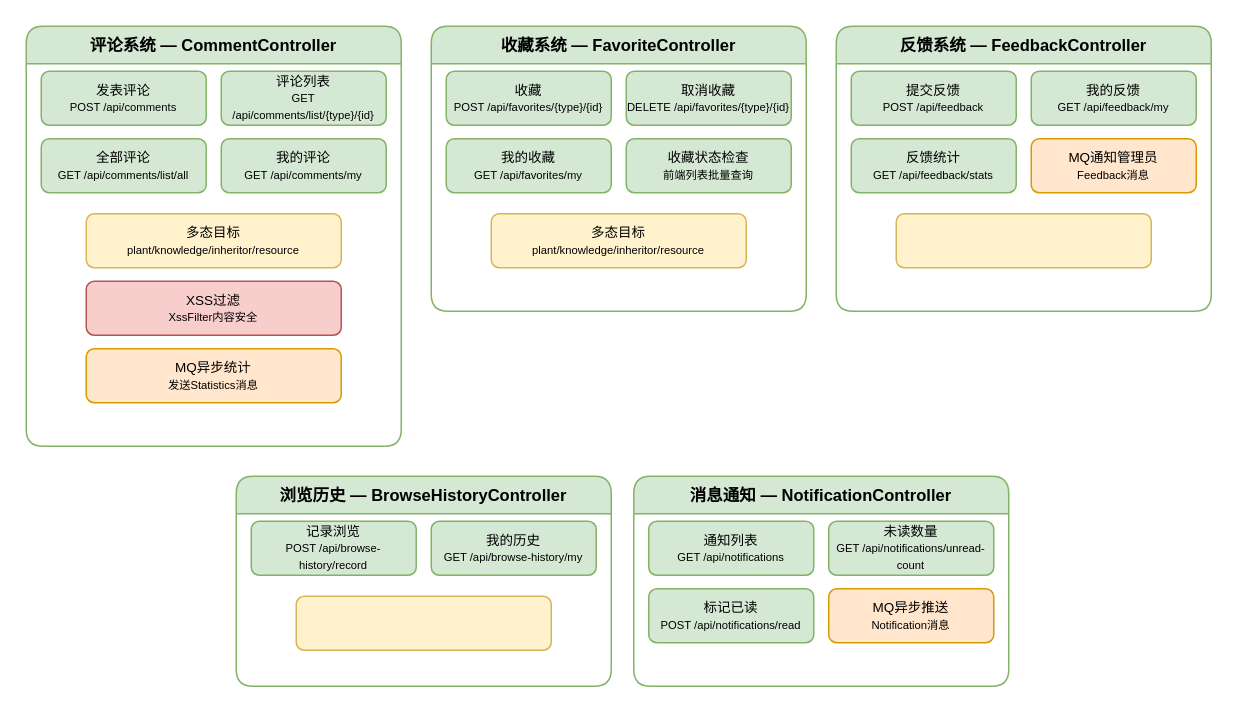
Image size: 1238x713. Some labels were removed from this diagram. Each missing label, with the centre of its shape:
处理状态 pending/replied/closed: (1023,240)
每日去重 同一目标每天只记录一次: (423,622)
